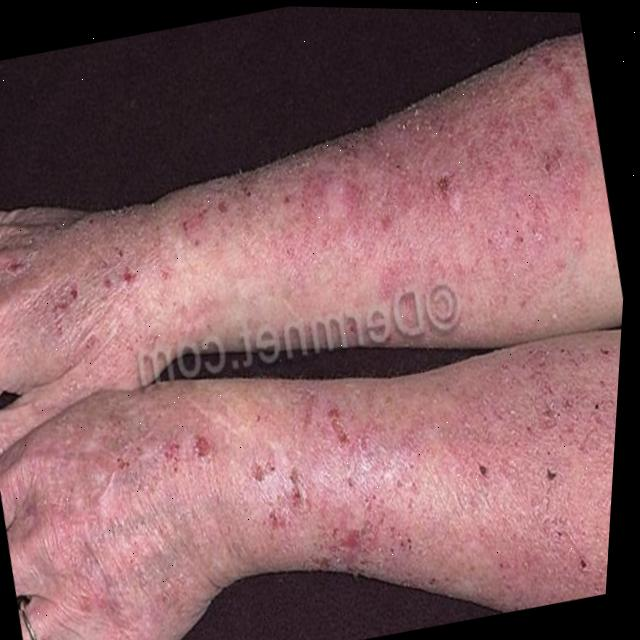Eczema: (0, 23, 632, 396), (98, 314, 622, 640)
